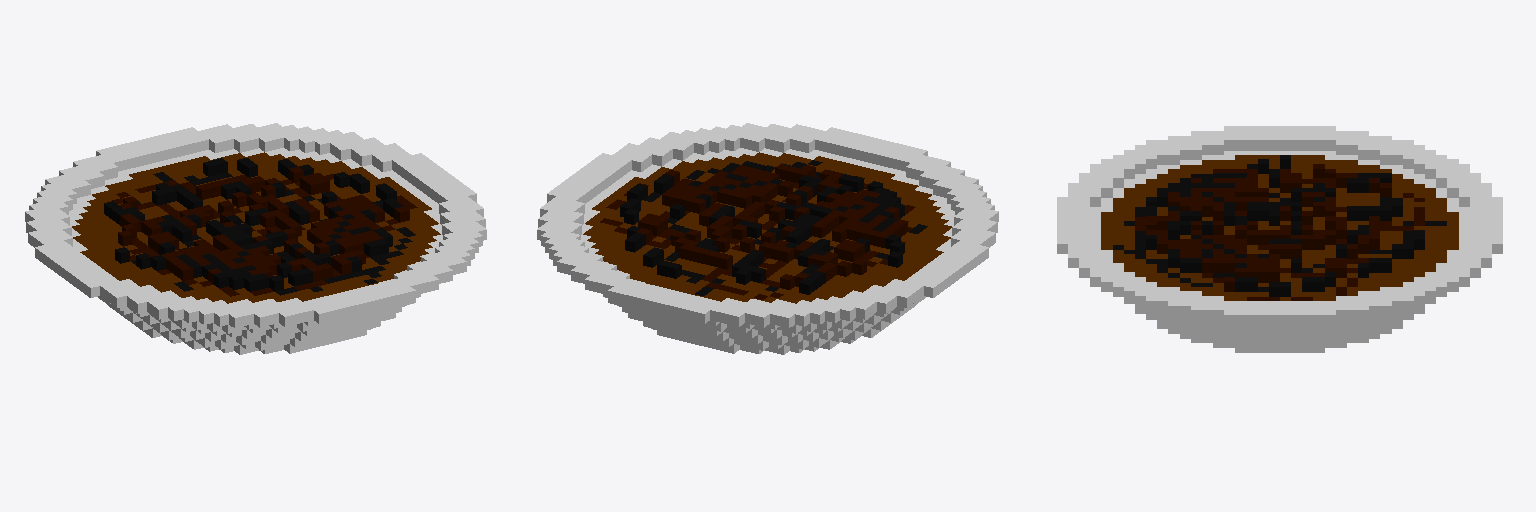
The picture shows the model from 3 angles: view 1: azimuth 30°, elevation 25°; view 2: azimuth 150°, elevation 25°; view 3: azimuth 270°, elevation 25°; orthographic projection.
Visible parts, largest first — view 1: object 1; view 2: object 1; view 3: object 1.
Boxes of the visible parts, x1=… form: object 1: x1=25, y1=123, x2=486, y2=354; object 1: x1=537, y1=123, x2=998, y2=354; object 1: x1=1057, y1=126, x2=1502, y2=352.
Size of the model in its own units: 4 by 0.7 by 4.
Materials: 1 (1 with a texture image).